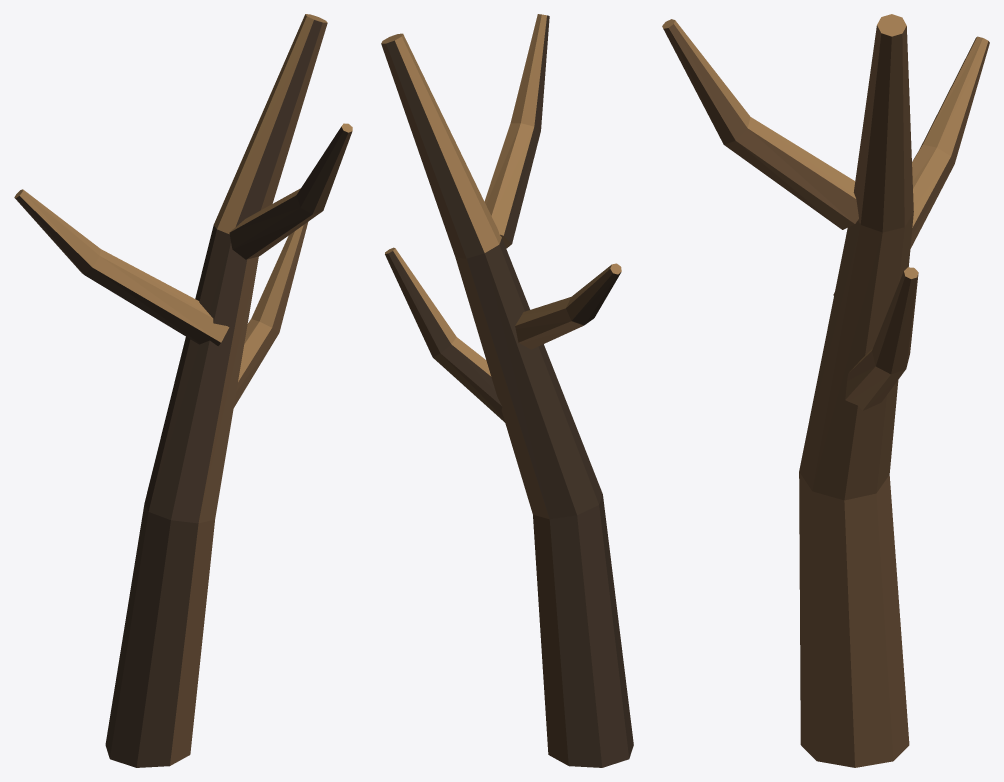
Rendered from TW_TREE_DEAD_LEAN_B_LOD0.glb.
3 renders of one model, left to right at view 1: azimuth 30°, elevation 25°; view 2: azimuth 150°, elevation 25°; view 3: azimuth 270°, elevation 25°, orthographic. The views are drawn at different scales.
Parts seen in each view (by area): view 1: TW_TREE_DEAD_LEAN_B_LOD0; view 2: TW_TREE_DEAD_LEAN_B_LOD0; view 3: TW_TREE_DEAD_LEAN_B_LOD0.
Boxes of the visible parts, <box> form: TW_TREE_DEAD_LEAN_B_LOD0: <box>14,14,352,767</box>; TW_TREE_DEAD_LEAN_B_LOD0: <box>381,14,633,767</box>; TW_TREE_DEAD_LEAN_B_LOD0: <box>662,14,989,767</box>.
Bounding box in the file's own units: 1.27 × 3.01 × 1.07.
1 material, 1 textured.
